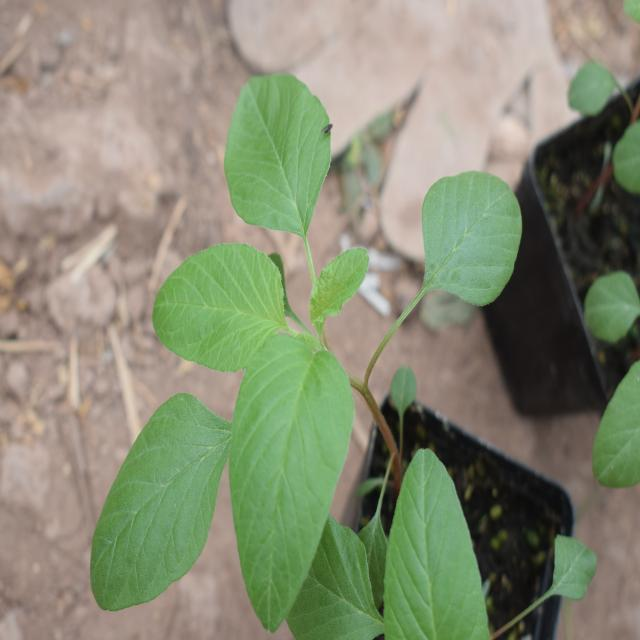pigweed: (88, 49, 511, 581)
